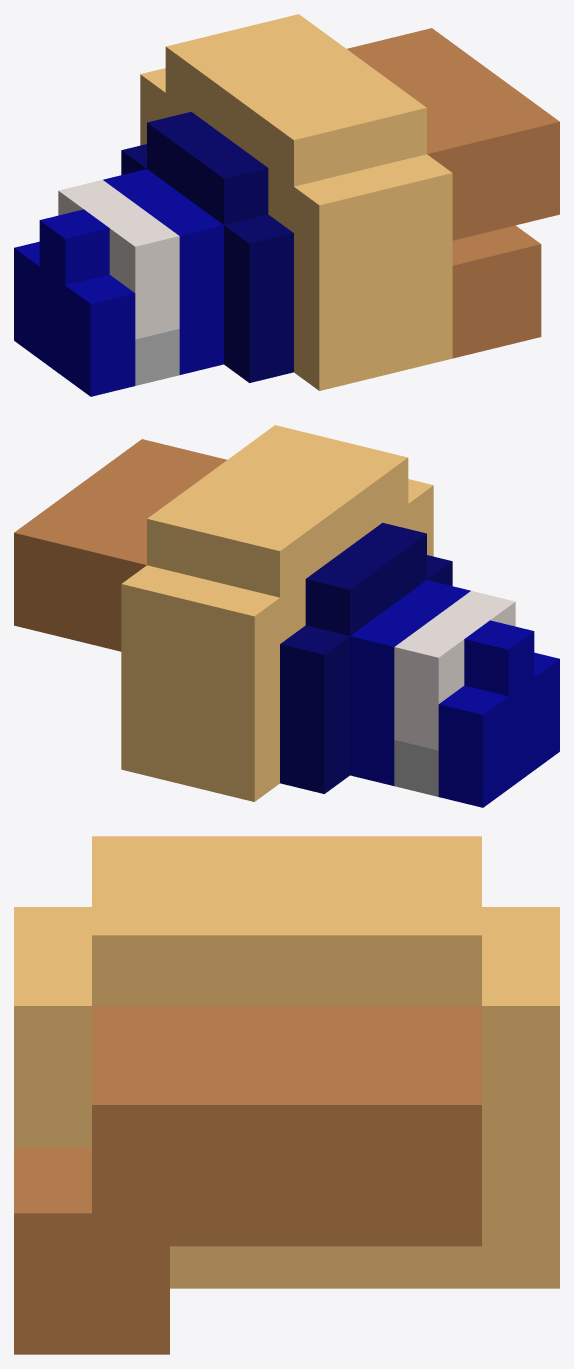
Rendered from AgriasArmLowerL.fbx.
3 renders of one model, top to bottom at view 1: azimuth 30°, elevation 25°; view 2: azimuth 150°, elevation 25°; view 3: azimuth 270°, elevation 25°, orthographic. The views are drawn at different scales.
Visible parts, largest first — view 1: Union; view 2: Union; view 3: Union.
Boxes of the visible parts, x1,y1,x2,y2 form: Union: [14, 14, 559, 396]; Union: [14, 425, 559, 807]; Union: [14, 836, 559, 1354].
Bounding box in the file's own units: 10 × 5 × 7.
1 material, 1 textured.
